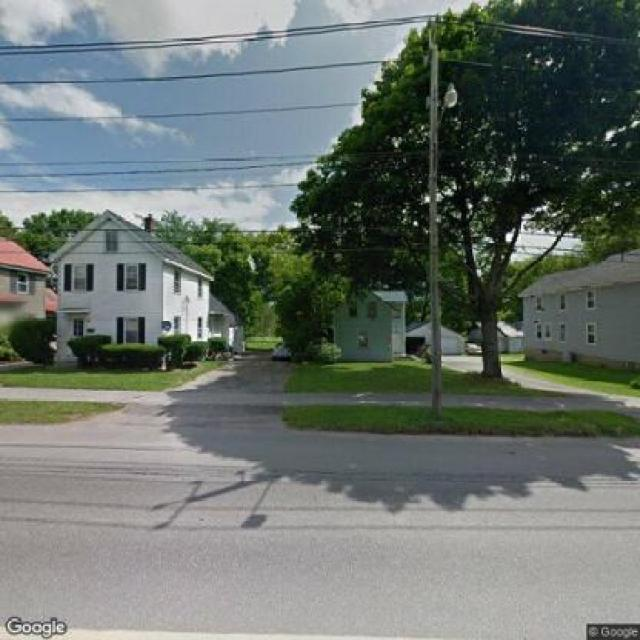pole: (399, 17, 464, 412)
